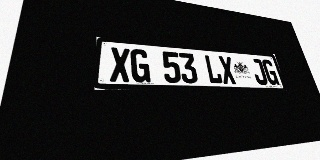3: (178, 52, 198, 83)
5: (162, 51, 182, 83)
G: (130, 49, 150, 83), (261, 59, 280, 85)
J: (250, 58, 269, 85)
L: (204, 55, 223, 84)
X: (110, 47, 131, 82), (218, 56, 237, 84)
